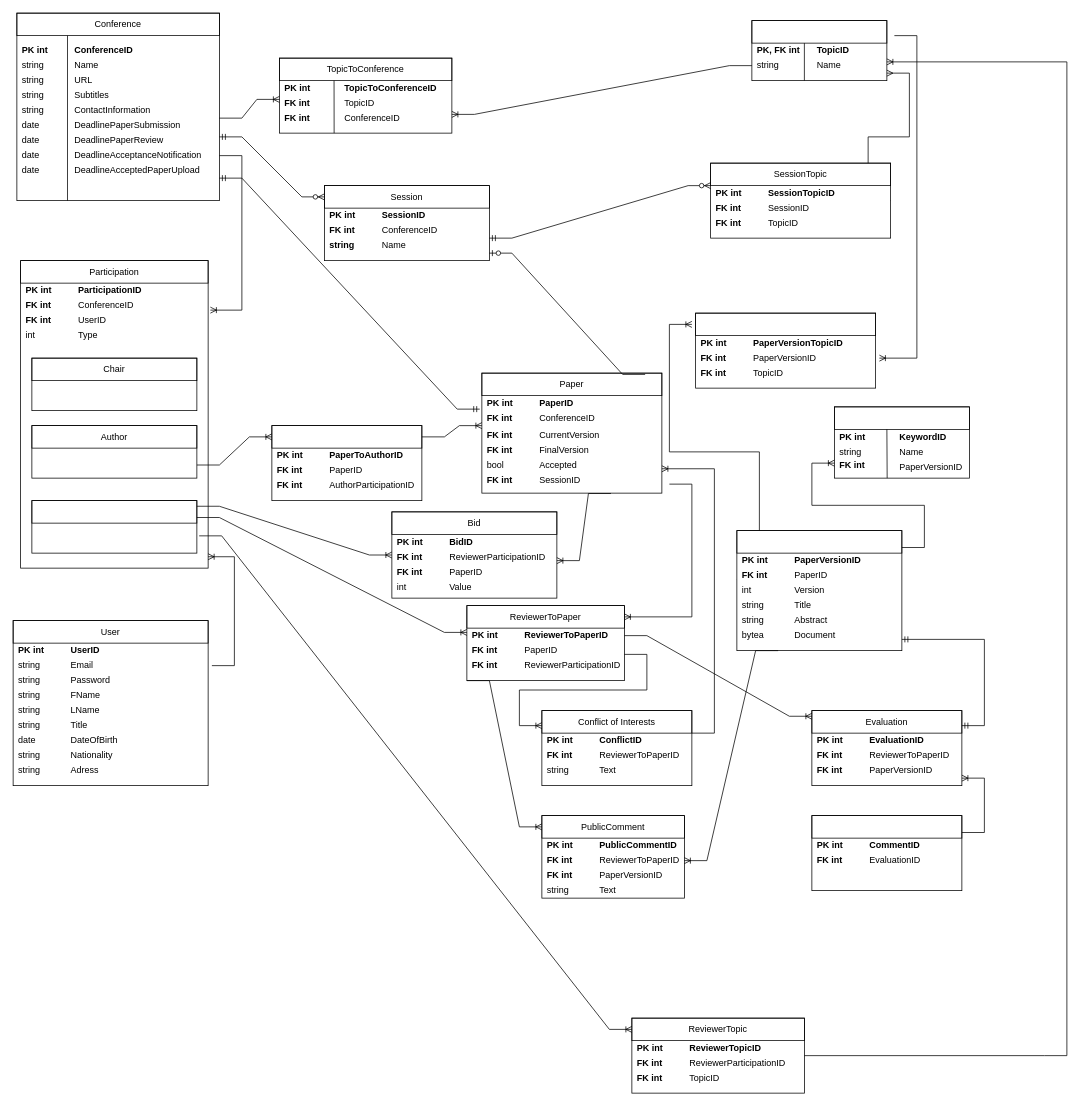
This 1086x1106 diagram has some shape labels left out. Here are the shapes that lost their labels. From the top down, the centre of each, then its label:
At point (819, 31): "Topic".
At point (785, 324): "PaperVersionTopic".
At point (346, 436): "PaperToAuthor".
At point (901, 417): "Keywords".
At point (114, 511): "Reviewer".
At point (819, 541): "PaperVersion".
At point (886, 826): "Comment".
